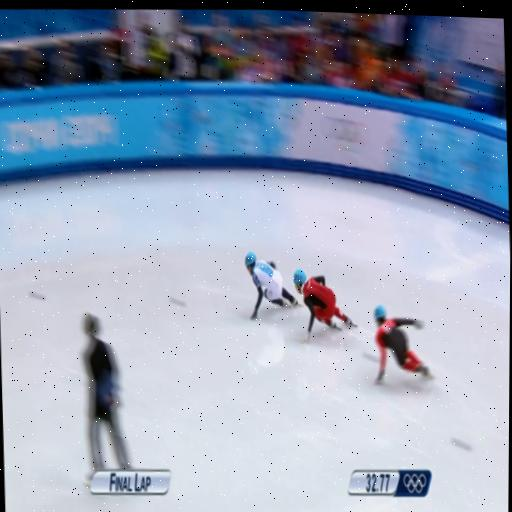Skater: (294, 269, 356, 342), (374, 305, 432, 383), (245, 252, 299, 320)
